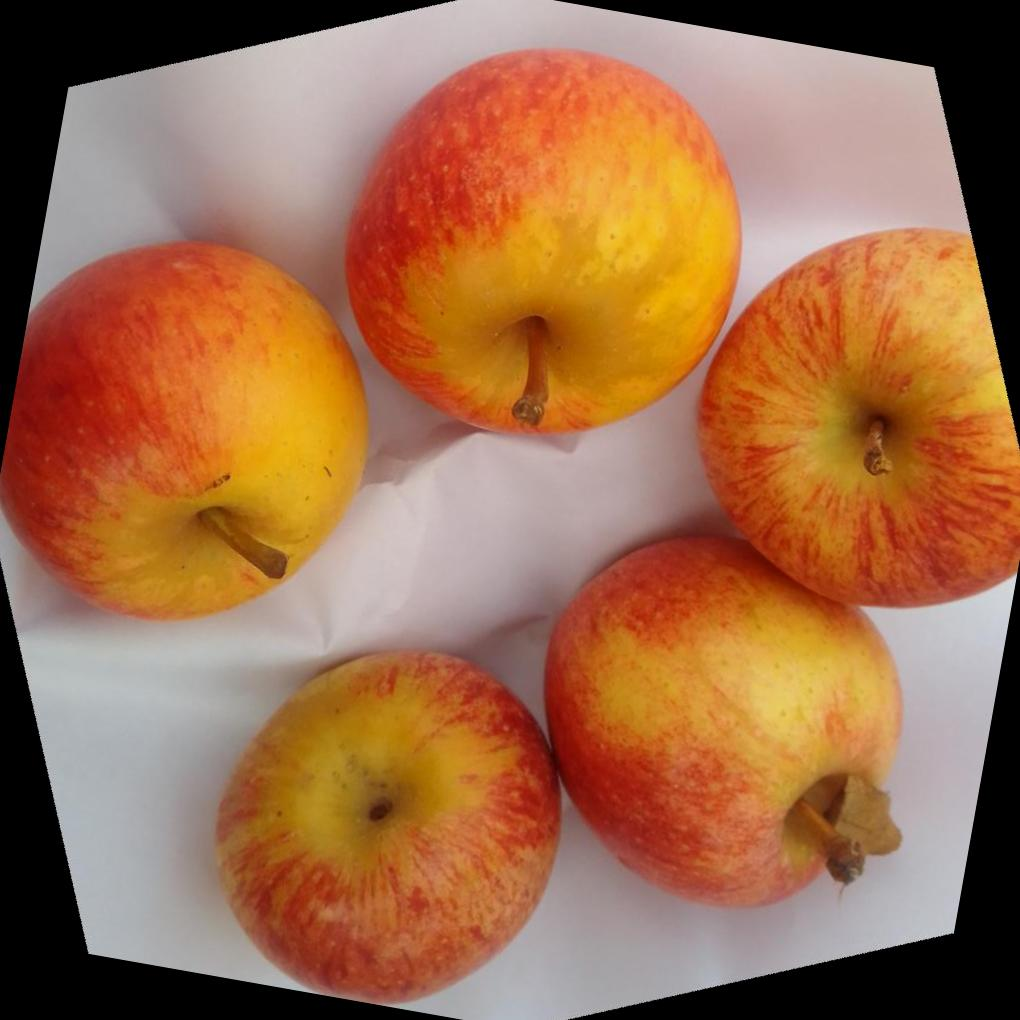FreshGuava: (210, 46, 1020, 1006), (0, 239, 367, 621)
